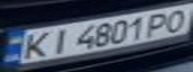0: (109, 17, 133, 44)
1: (124, 14, 151, 40)
4: (75, 22, 96, 51)
8: (93, 20, 115, 47)
I: (42, 26, 75, 55)
K: (15, 29, 57, 61)
O: (160, 7, 193, 33)
P: (142, 10, 175, 37)
